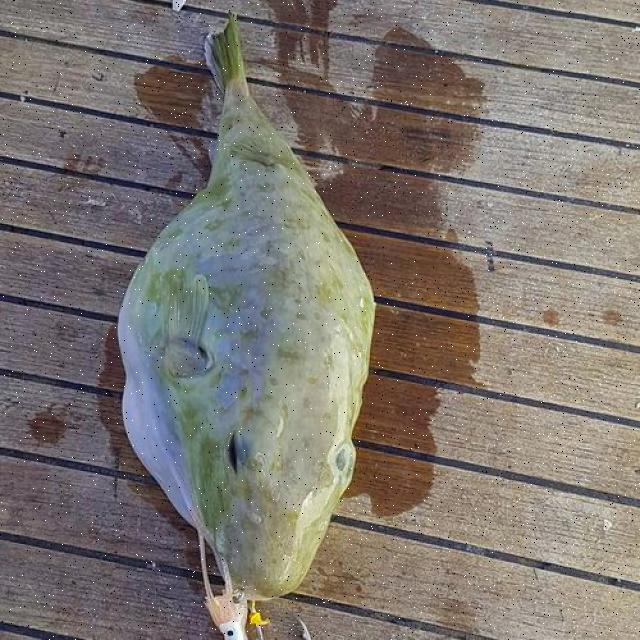Balik: (120, 15, 375, 638)
